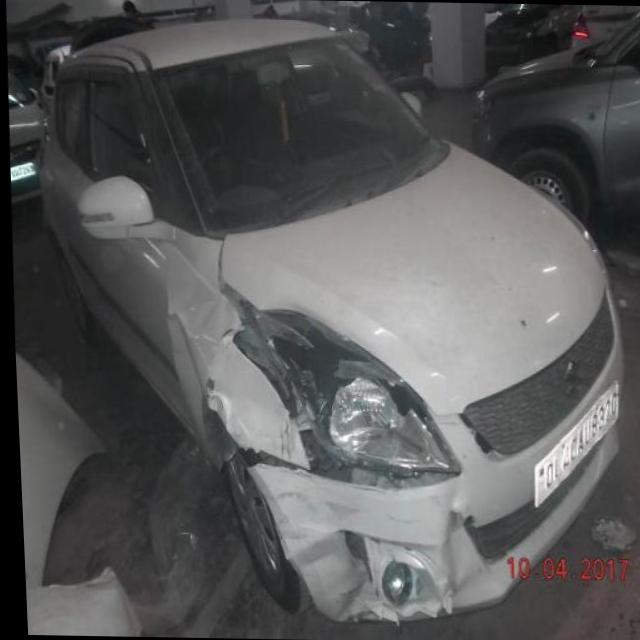Car-Damage: (149, 236, 471, 624), (233, 311, 462, 490)
